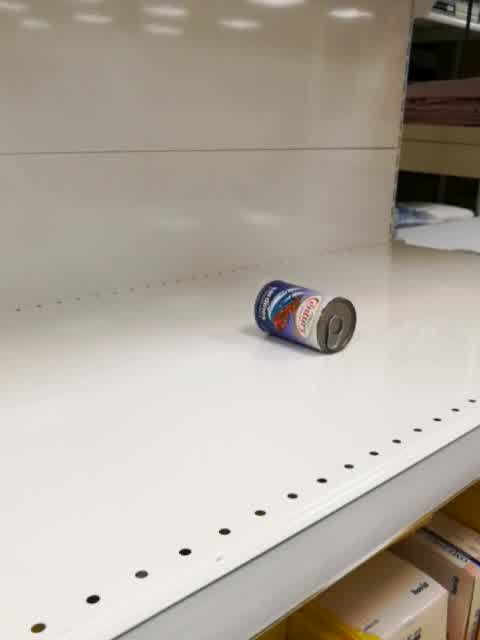sardine: (251, 277, 357, 356)
